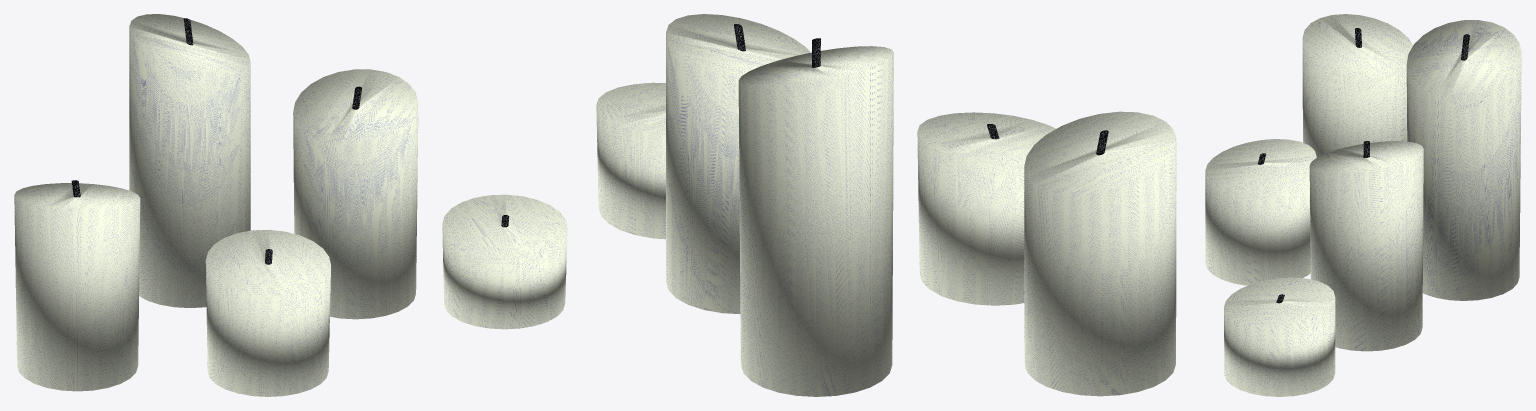
Rendered from Candles.dae.
3 views of the same model, side by side, from view 1: azimuth 30°, elevation 25°; view 2: azimuth 150°, elevation 25°; view 3: azimuth 270°, elevation 25° (orthographic). The views are drawn at different scales.
Visible parts, largest first — view 1: Component_148 (×5); view 2: Component_148 (×5); view 3: Component_148 (×5).
Boxes of the visible parts, x1,y1,x2,y2 form: Component_148 (×5): [14, 14, 567, 396]; Component_148 (×5): [596, 14, 1176, 396]; Component_148 (×5): [1205, 14, 1521, 396].
Size of the model in its own units: 18.85 by 11.42 by 9.61.
